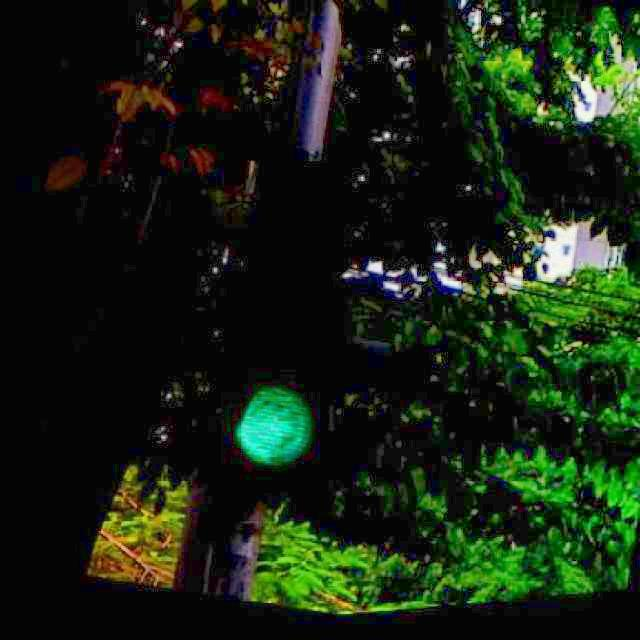green: (228, 155, 331, 498)
